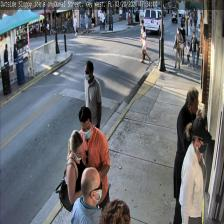person: (74, 105, 110, 223), (173, 88, 201, 224), (180, 116, 211, 224), (83, 60, 102, 162), (66, 130, 86, 224), (70, 166, 102, 224)
